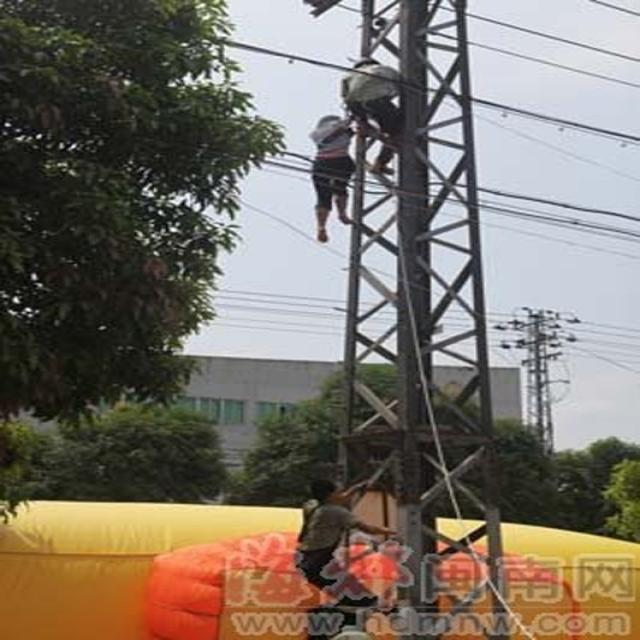non-critical vegetation: (288, 6, 518, 628)
utility poles: (76, 8, 284, 172)
